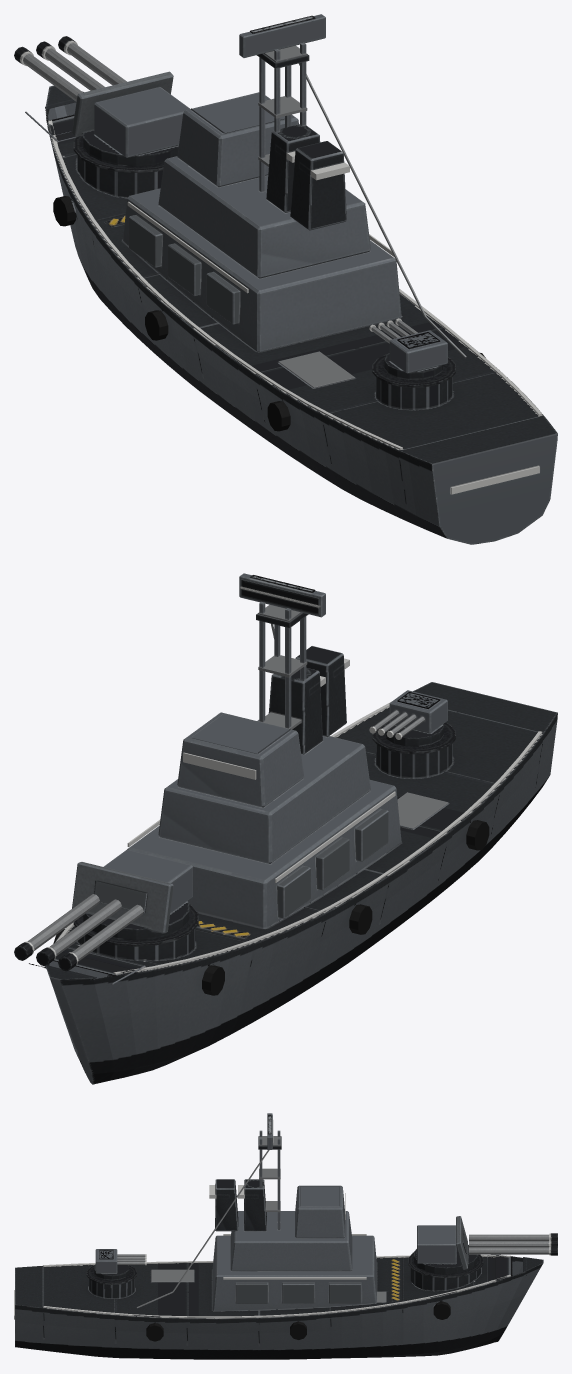
The model's file is chs_kraken.fbx.
The picture shows the model from 3 angles, top to bottom: view 1: azimuth 30°, elevation 25°; view 2: azimuth 150°, elevation 25°; view 3: azimuth 270°, elevation 25°; orthographic projection. The views are drawn at different scales.
Parts seen in each view (by area): view 1: base_bar, turret1_bar, base_glow_running_bar, turret2_bar, radar_bar; view 2: base_bar, turret1_bar, base_glow_running_bar, turret2_bar, radar_bar; view 3: base_bar, turret1_bar, base_glow_running_bar, turret2_bar.
Boxes of the visible parts, bbox=[...] form: base_bar: bbox=[25, 42, 557, 544]; turret1_bar: bbox=[14, 36, 189, 166]; base_glow_running_bar: bbox=[48, 120, 542, 494]; turret2_bar: bbox=[371, 320, 447, 379]; radar_bar: bbox=[239, 14, 325, 57]; base_bar: bbox=[29, 602, 557, 1084]; turret1_bar: bbox=[14, 849, 192, 971]; base_glow_running_bar: bbox=[56, 658, 542, 974]; turret2_bar: bbox=[373, 690, 447, 746]; radar_bar: bbox=[239, 573, 325, 617]; base_bar: bbox=[15, 1130, 543, 1359]; turret1_bar: bbox=[414, 1216, 557, 1274]; base_glow_running_bar: bbox=[14, 1185, 510, 1319]; turret2_bar: bbox=[94, 1249, 145, 1280].
Size of the model in its own units: 823 by 1418 by 3030.
2 materials, 2 textured.
